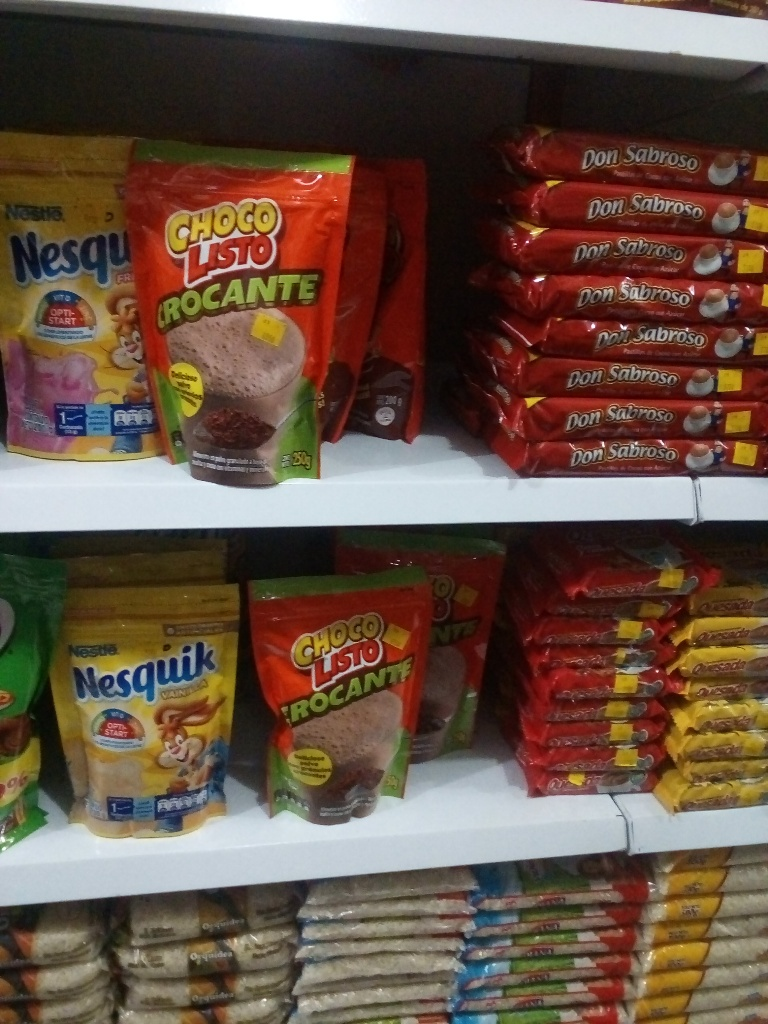COL0170102DYP25000: (128, 136, 352, 485)
COL0170305DYP20000: (1, 131, 155, 463)
COL0170306DYP20000: (47, 586, 240, 843)
